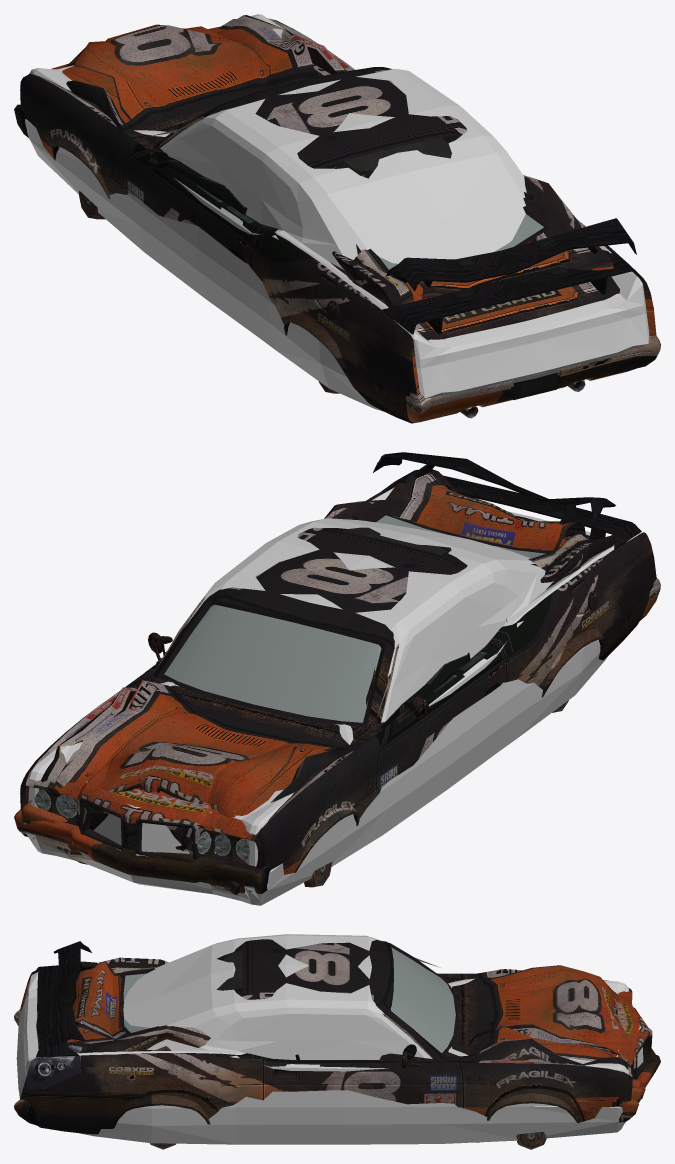
Rendered from body_out.glb.
3 views of the same model, one above another, from view 1: azimuth 30°, elevation 25°; view 2: azimuth 150°, elevation 25°; view 3: azimuth 270°, elevation 25° (orthographic). The views are drawn at different scales.
Visible parts, largest first — view 1: body_shadow, Surface45, Surface38_crash, Surface39, Surface31_crash, Surface31, Surface29, Surface45_crash, Surface18, Surface41, Surface38, Surface41_crash (+5 smaller); view 2: body_shadow, Surface45, Surface38_crash, Surface50, Surface38, Surface39, Surface41_crash, Surface37, Surface29, Surface45_crash, Surface31, Surface22 (+7 smaller); view 3: body_shadow, Surface45, Surface38_crash, Surface35, Surface32, Surface38, Surface50, Surface45_crash, Surface41_crash, Surface31_crash, Surface35_crash, Surface31 (+7 smaller).
Part boxes in pixels (box(x1,y1,x2,y2)): body_shadow: box(25, 14, 649, 411); Surface45: box(140, 67, 656, 423); Surface38_crash: box(65, 19, 318, 125); Surface39: box(20, 73, 153, 198); Surface31_crash: box(386, 218, 636, 291); Surface31: box(382, 252, 642, 334); Surface29: box(129, 150, 243, 254); Surface45_crash: box(332, 175, 609, 307); Surface18: box(406, 336, 660, 422); Surface41: box(406, 281, 613, 339); Surface38: box(51, 26, 330, 135); Surface41_crash: box(392, 246, 613, 299); body_shadow: box(25, 487, 640, 905); Surface45: box(152, 486, 656, 739); Surface38_crash: box(55, 680, 339, 817); Surface50: box(164, 604, 381, 722); Surface38: box(33, 698, 357, 838); Surface39: box(242, 728, 384, 893); Surface41_crash: box(389, 469, 585, 549); Surface37: box(14, 809, 270, 893); Surface29: box(382, 660, 489, 786); Surface45_crash: box(324, 483, 617, 705); Surface31: box(381, 469, 641, 549); Surface22: box(22, 785, 258, 868); body_shadow: box(16, 934, 643, 1144); Surface45: box(20, 939, 469, 1134); Surface38_crash: box(467, 965, 629, 1062); Surface35: box(437, 1060, 632, 1142); Surface32: box(289, 1060, 453, 1104); Surface38: box(464, 978, 652, 1074); Surface50: box(390, 947, 455, 1052); Surface45_crash: box(67, 956, 429, 1053); Surface41_crash: box(46, 961, 116, 1039); Surface31_crash: box(48, 941, 95, 1046); Surface35_crash: box(442, 1038, 628, 1069); Surface31: box(35, 965, 79, 1057).
Bounding box in the file's own units: 1.94 × 1.23 × 5.02.
